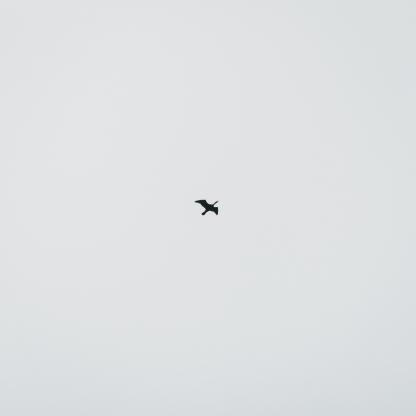bird: (194, 198, 221, 218)
